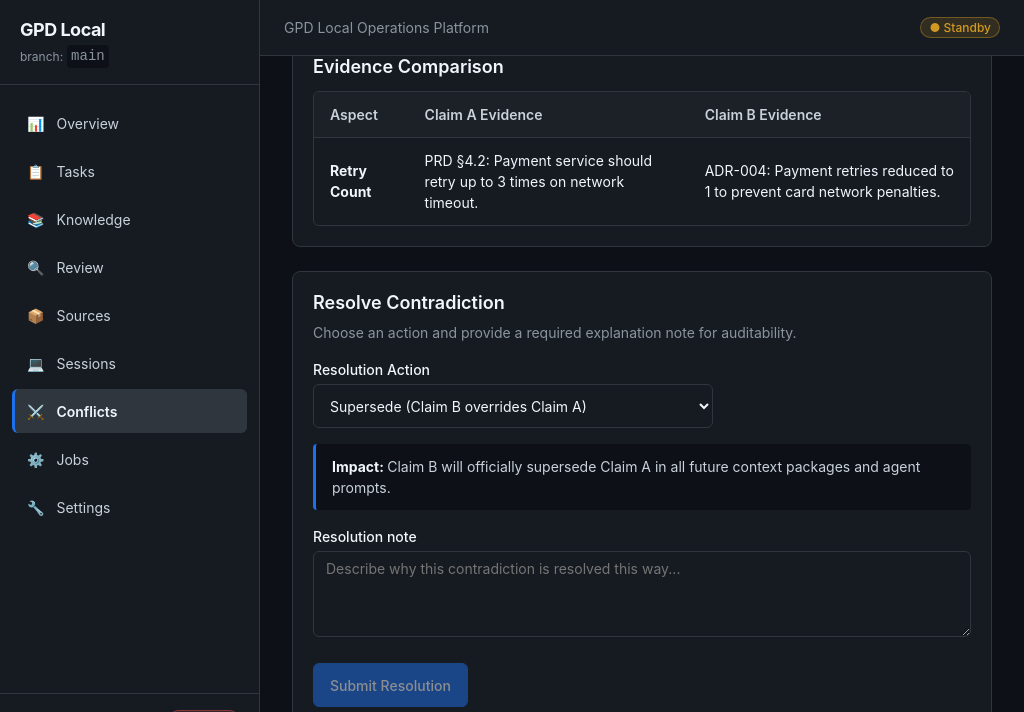
Test case: ConflictDetailPage › submits resolution with selected action and required note
(page scrolled)
In the text box labelled "Resolution note": [642, 594] box [313, 551, 971, 637], type "Card network limits retries"
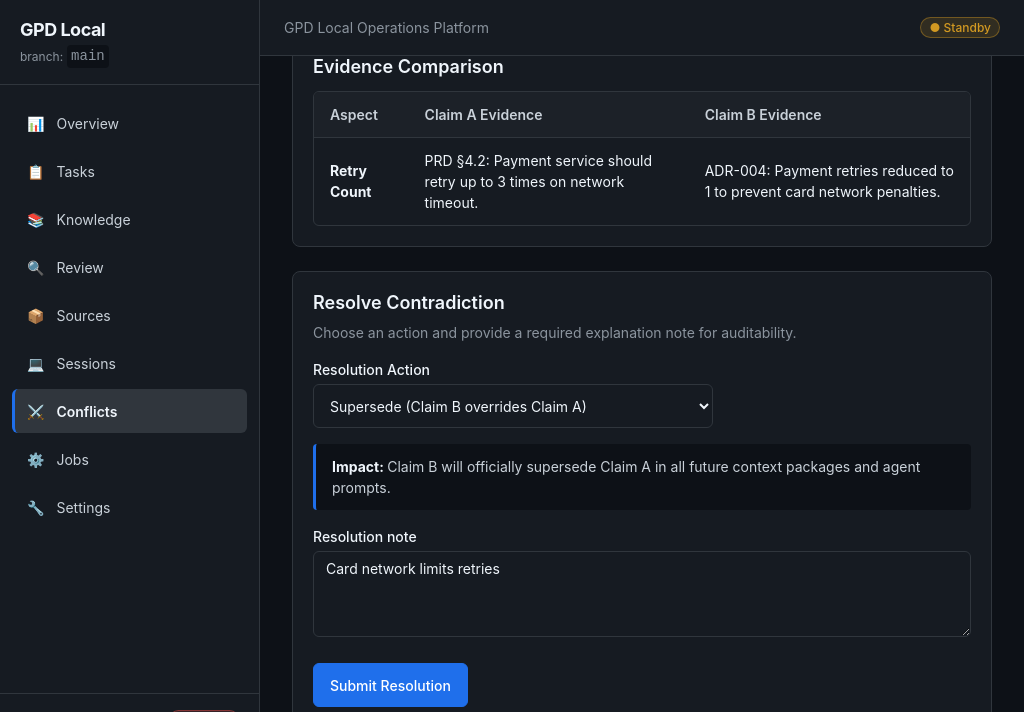
Click the button "Submit Resolution": [390, 685] box [313, 663, 468, 707]
(page scrolled)
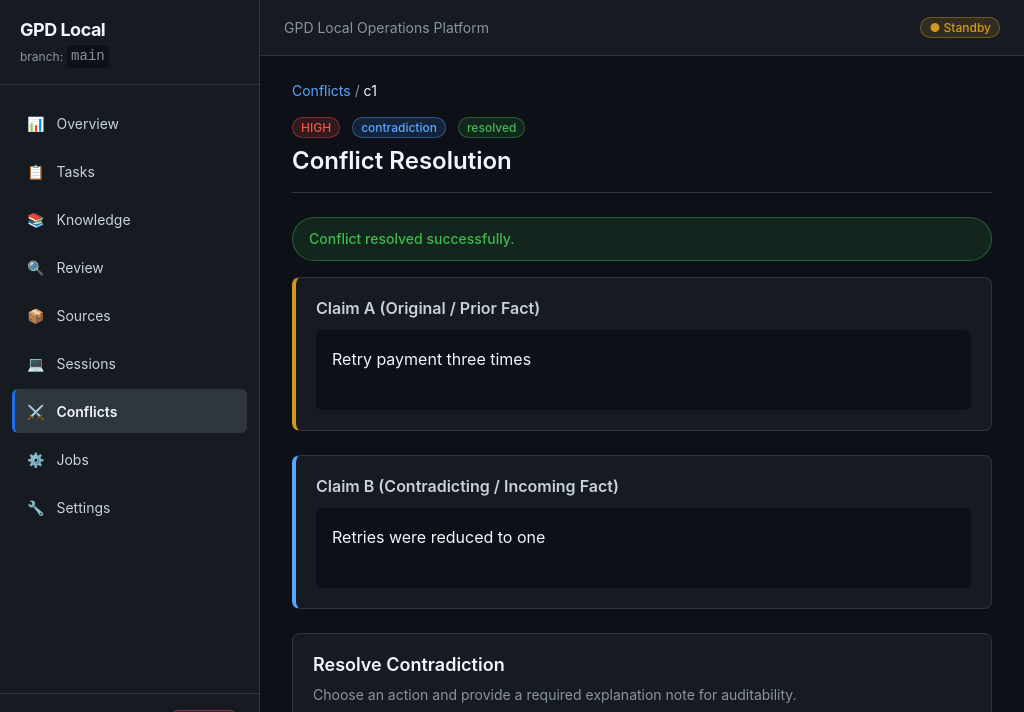
Result: the text "Conflict resolved successfully." is shown at [292, 217, 992, 260]
